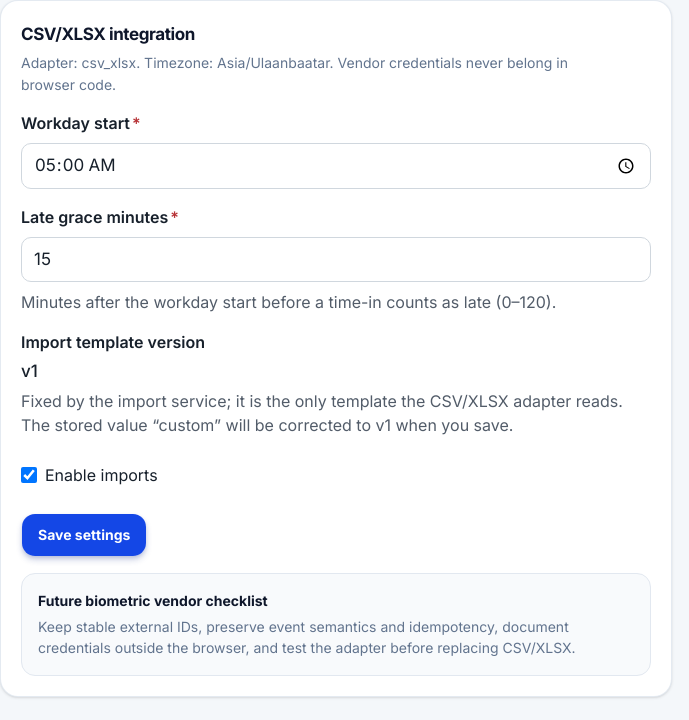
Test: AttendanceIntegrationSettings › reports save failures and invalid grace minutes inline
Replace the text in the number field labelled "Late grace minutes*" with "500": (336, 259) [21,237,651,282]
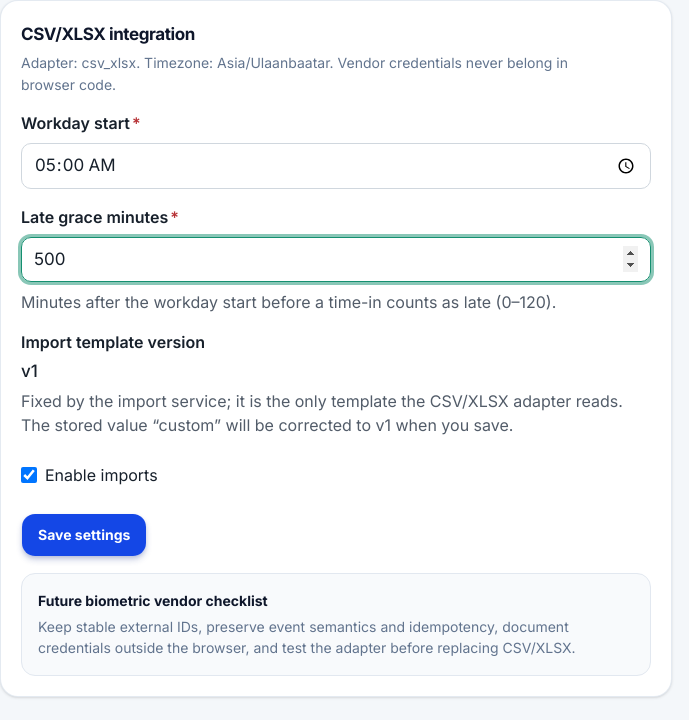
Click the button "Save settings": (84, 535) [21,513,147,557]
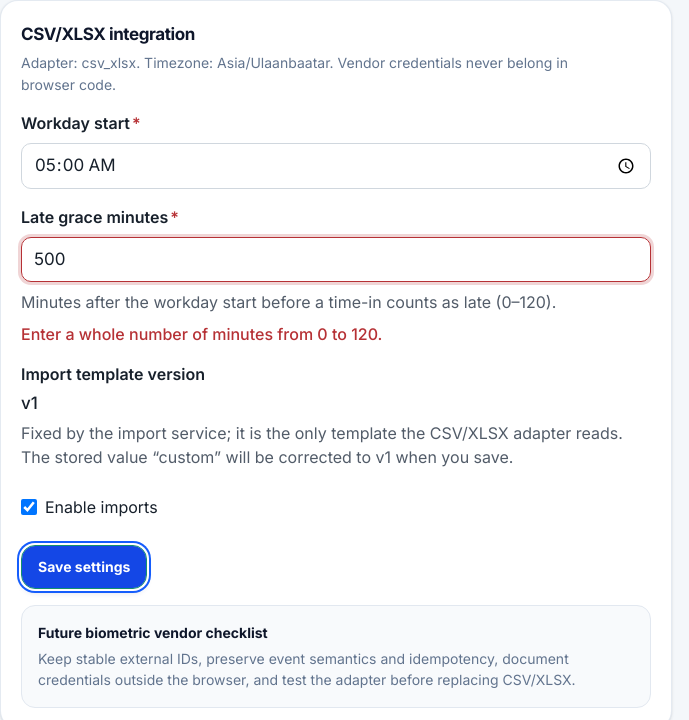
Expected: the text "Enter a whole number of minutes from 0 to 120." is shown, [21,324,382,344]
Replace the text in the number field labelled "Late grace minutes*" with "10": (336, 259) [21,237,651,282]
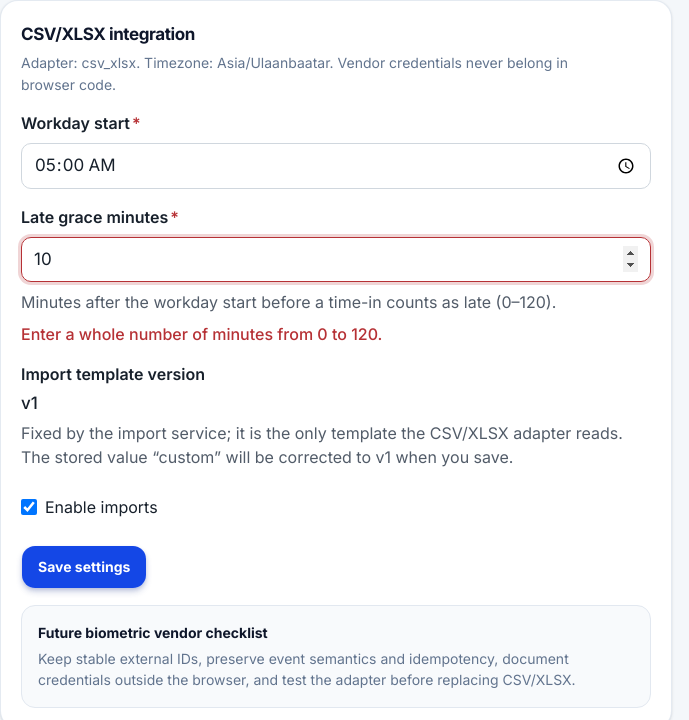
Click the button "Save settings": (84, 567) [21,545,147,589]
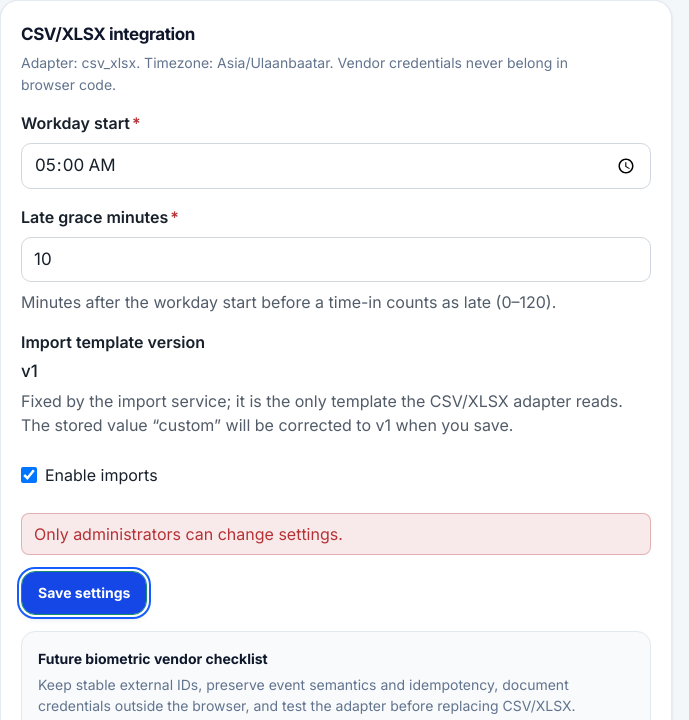
Expected: the message reads "Only administrators can change settings.", [34,524,343,544]
